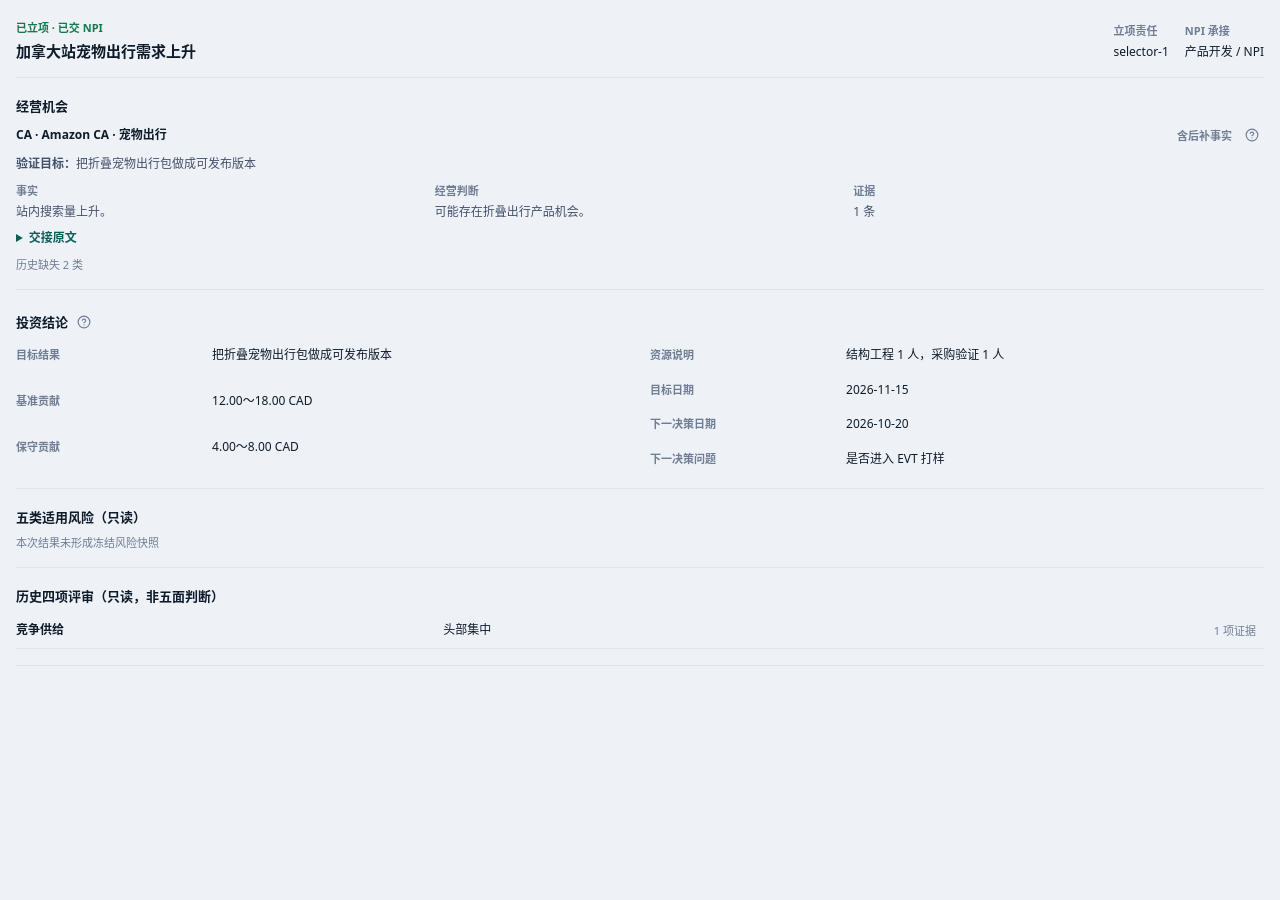
Test: ProductInitiativeResultPanel › 展开评审项才展示引用证据与备注
The width and height of the screenshot is (1280, 900).
Click the heading "竞争供给 头部集中 1 项证据" at point(40, 630), box [16,621,1256,638]
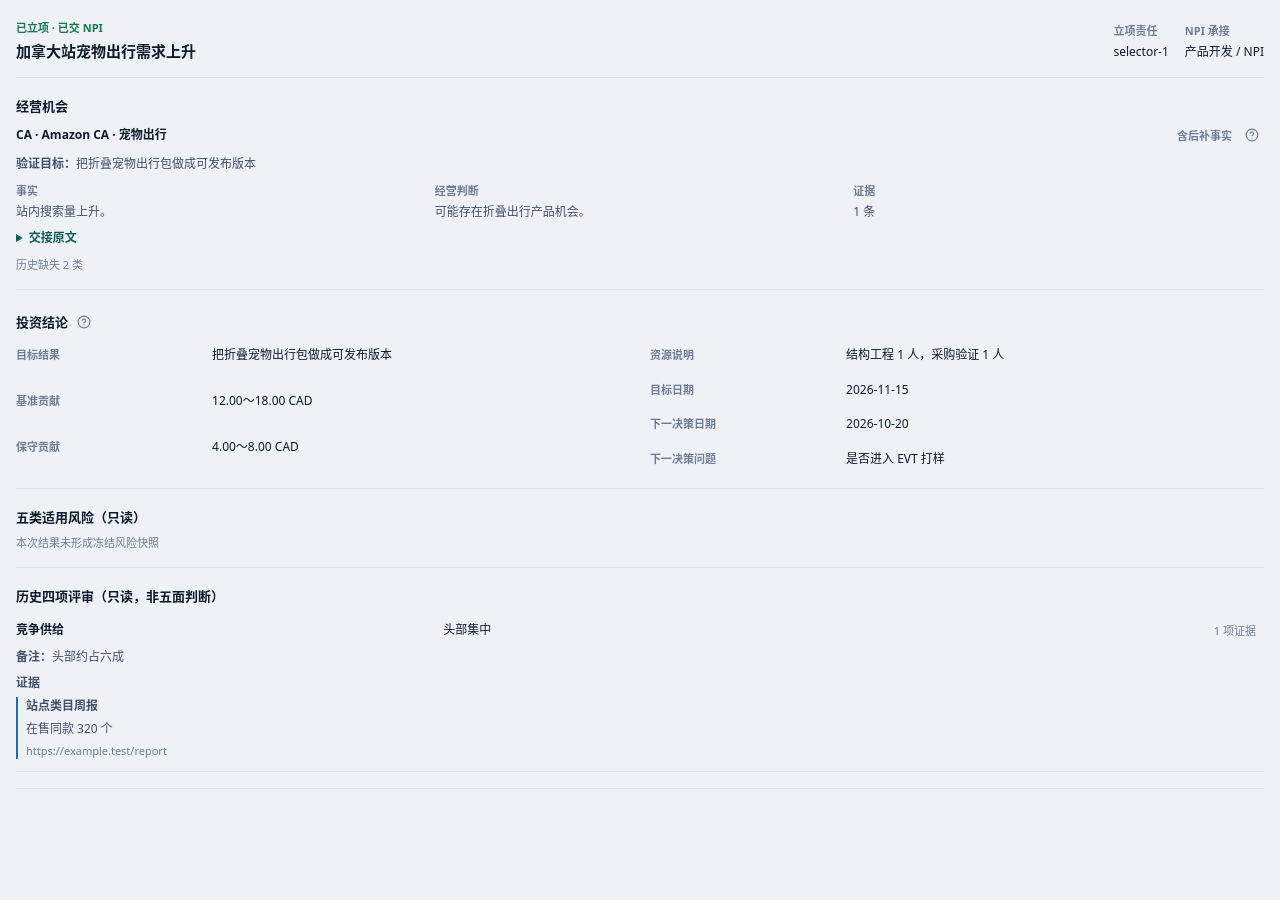
expect the element that starts with "竞争供给" shows "头部约占六成": met, box [52,648,124,665]
expect the element that starts with "竞争供给" shows "在售同款 320 个": met, box [26,720,113,736]
